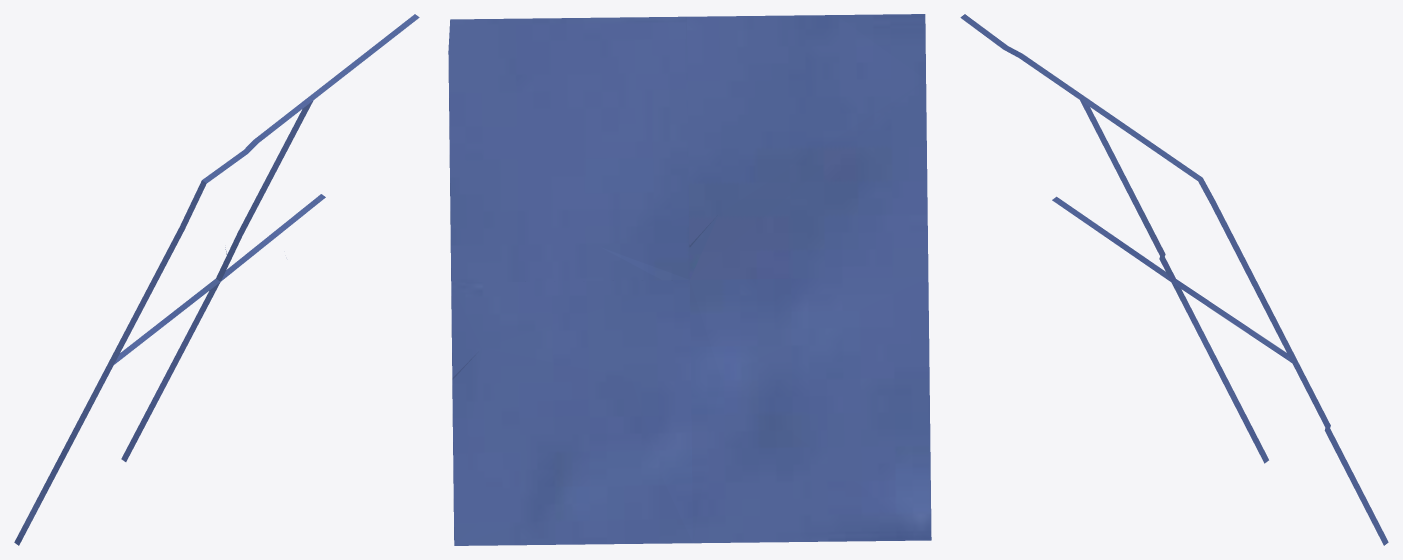
3 views of the same model, side by side, from view 1: azimuth 30°, elevation 25°; view 2: azimuth 150°, elevation 25°; view 3: azimuth 270°, elevation 25° (orthographic). The views are drawn at different scales.
Bounding box in the file's own units: 19612 × 17797 × 16682.
Materials: 1 (1 with a texture image).
